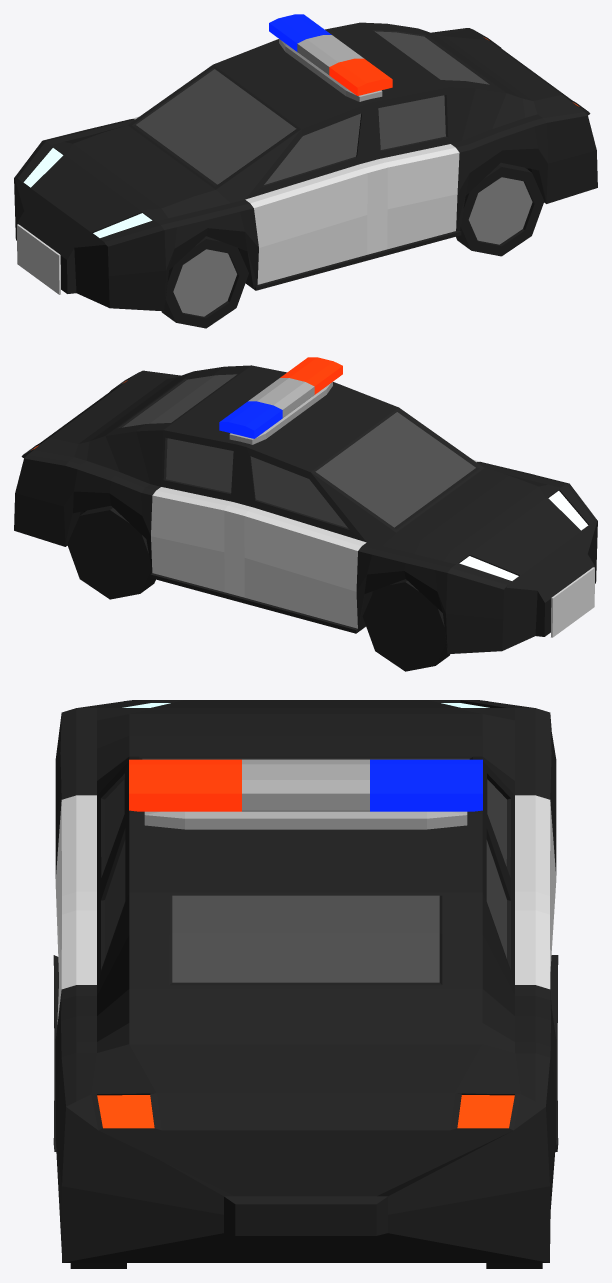
Rendered from Police_car.fbx.
3 renders of one model, top to bottom at view 1: azimuth 30°, elevation 25°; view 2: azimuth 150°, elevation 25°; view 3: azimuth 270°, elevation 25°, orthographic. The views are drawn at different scales.
Visible parts, largest first — view 1: Cube, Cylinder, Cube.001, Cube.002, Cube.003; view 2: Cube, Cylinder, Cube.001, Cube.003, Cube.002; view 3: Cube, Cube.001, Cube.002, Cube.003.
Part boxes in pixels (left/top/right/bottom): Cube: left=14, top=22, right=597, bottom=311; Cylinder: left=161, top=162, right=543, bottom=328; Cube.001: left=279, top=35, right=382, bottom=101; Cube.002: left=329, top=58, right=392, bottom=95; Cube.003: left=269, top=14, right=331, bottom=51; Cube: left=14, top=365, right=597, bottom=654; Cylinder: left=67, top=506, right=450, bottom=671; Cube.001: left=229, top=378, right=332, bottom=444; Cube.003: left=219, top=401, right=282, bottom=438; Cube.002: left=280, top=357, right=342, bottom=394; Cube: left=53, top=700, right=558, bottom=1262; Cube.001: left=144, top=759, right=467, bottom=829; Cube.002: left=129, top=759, right=241, bottom=811; Cube.003: left=370, top=759, right=482, bottom=811.
Size of the model in its own units: 845 by 302 by 359.
